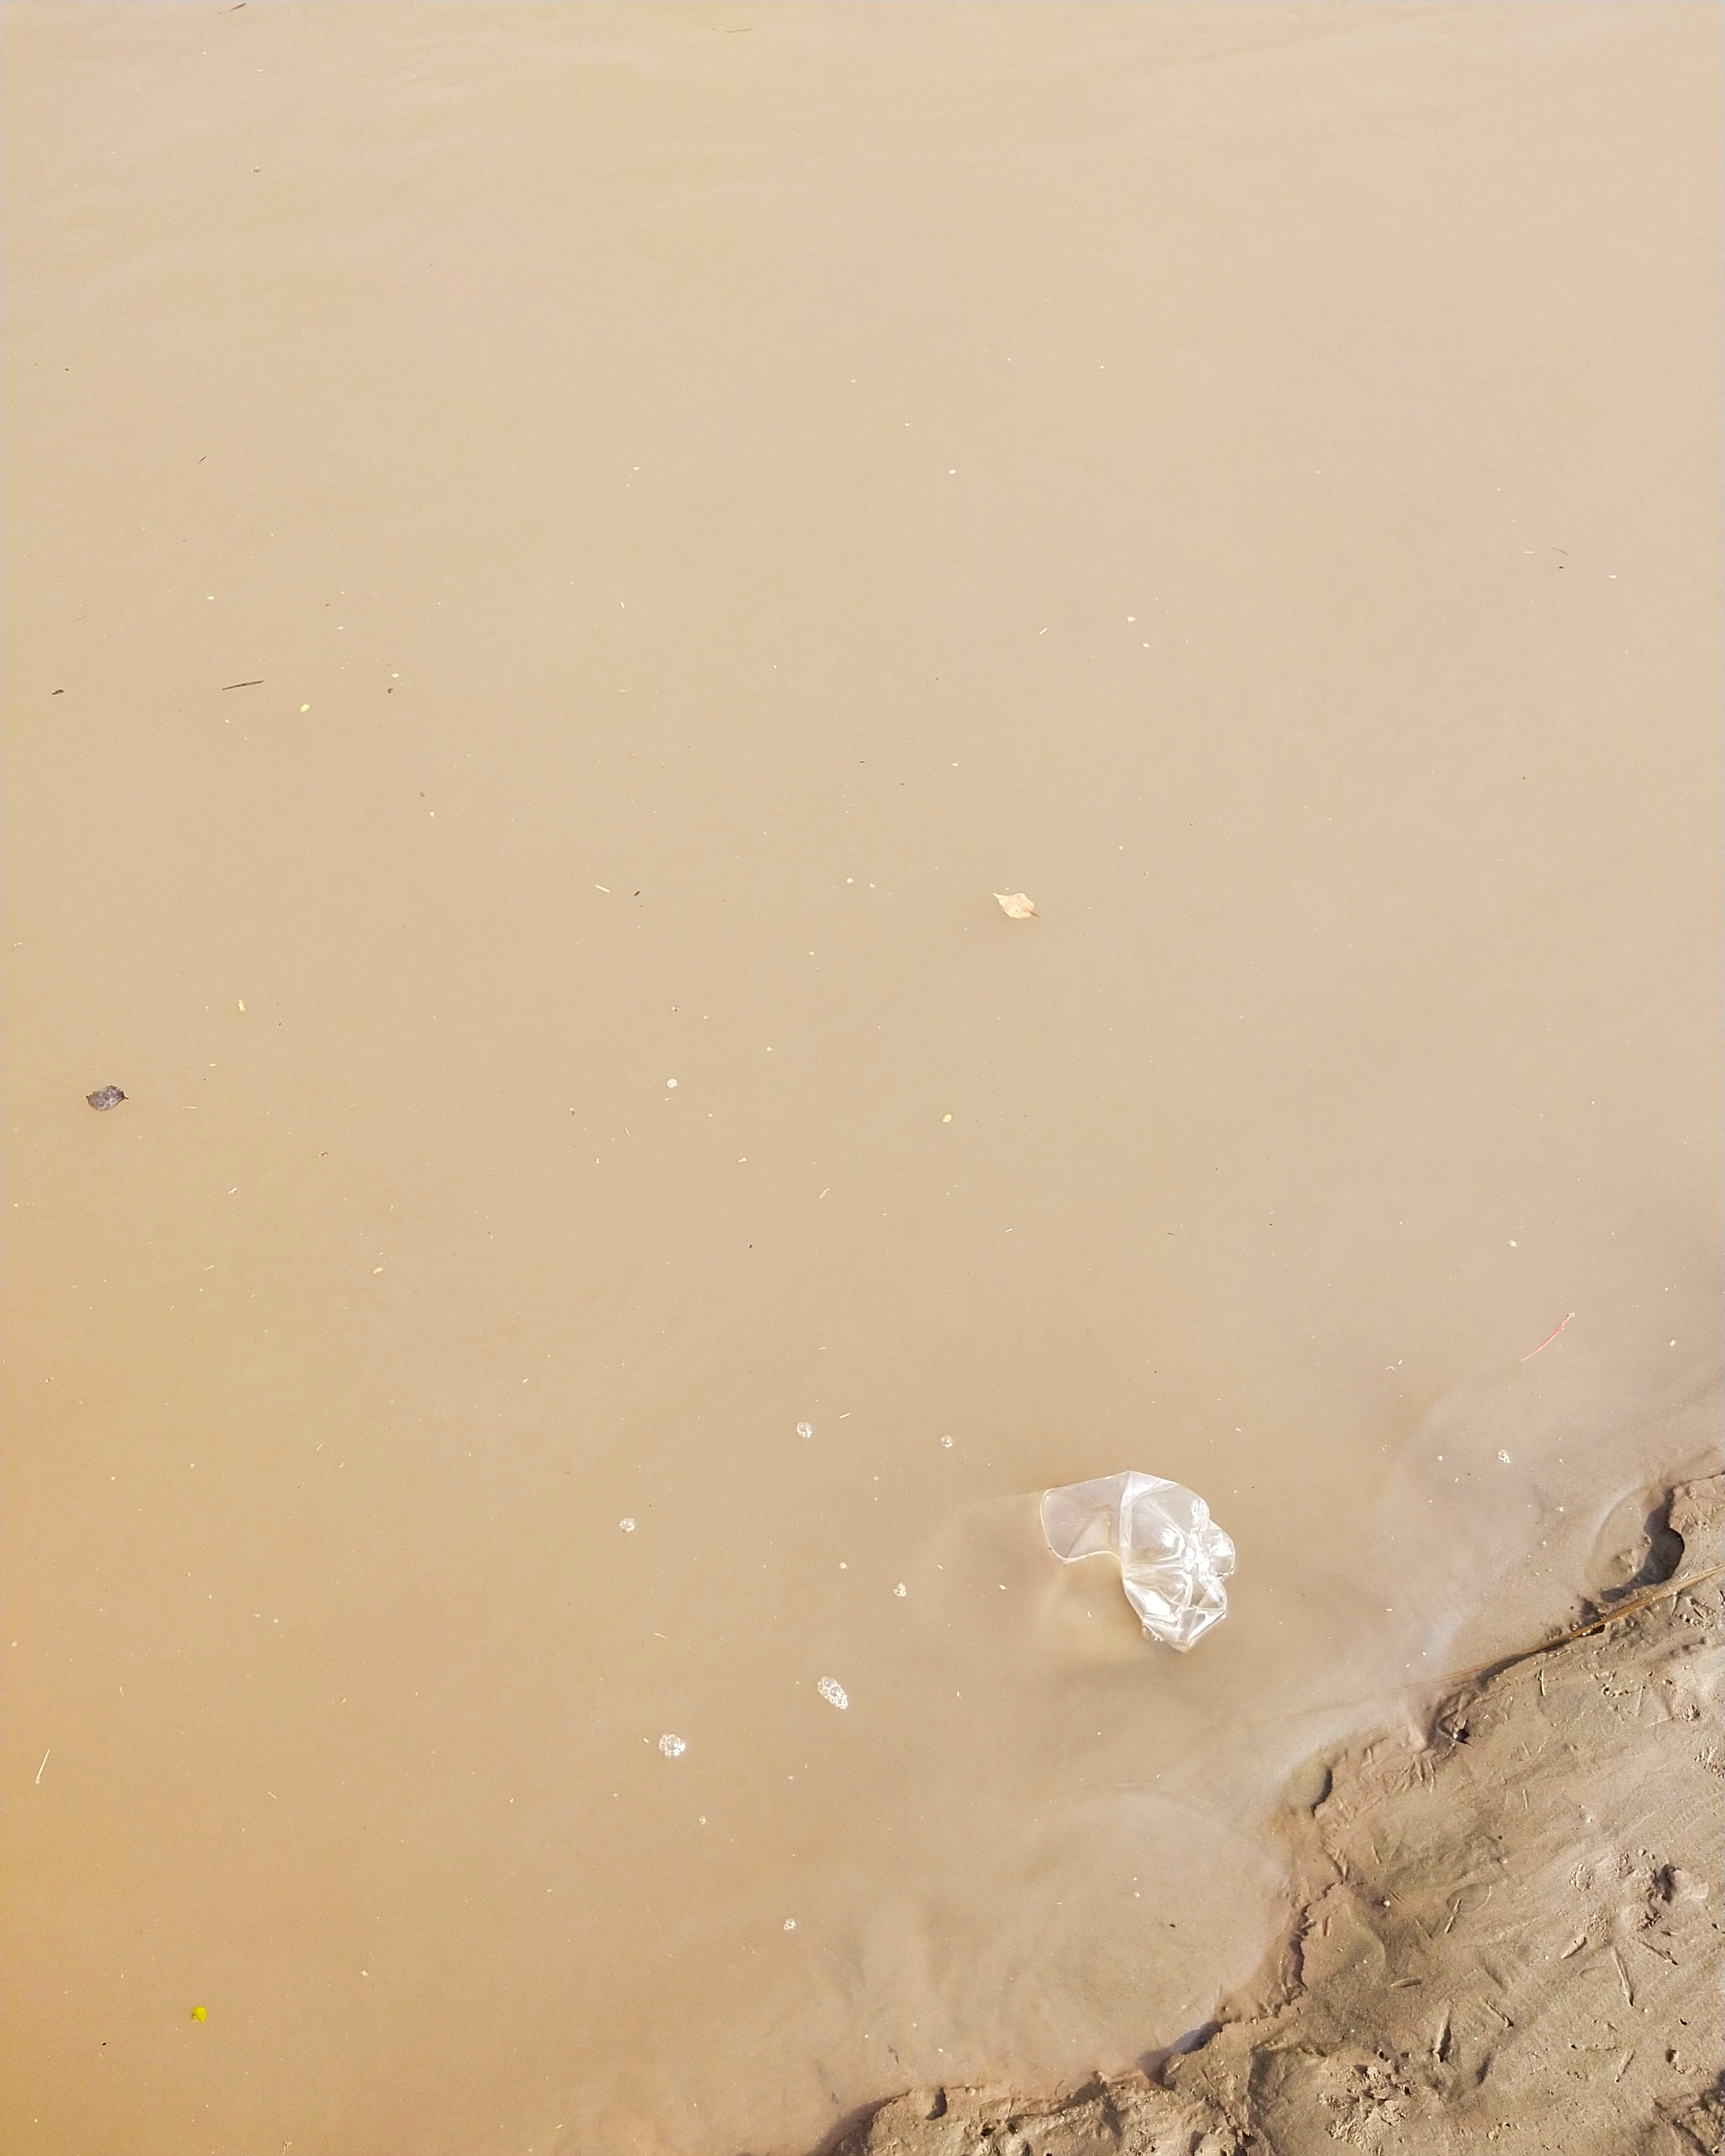Plastic Bottle: (1042, 1475, 1232, 1653)
